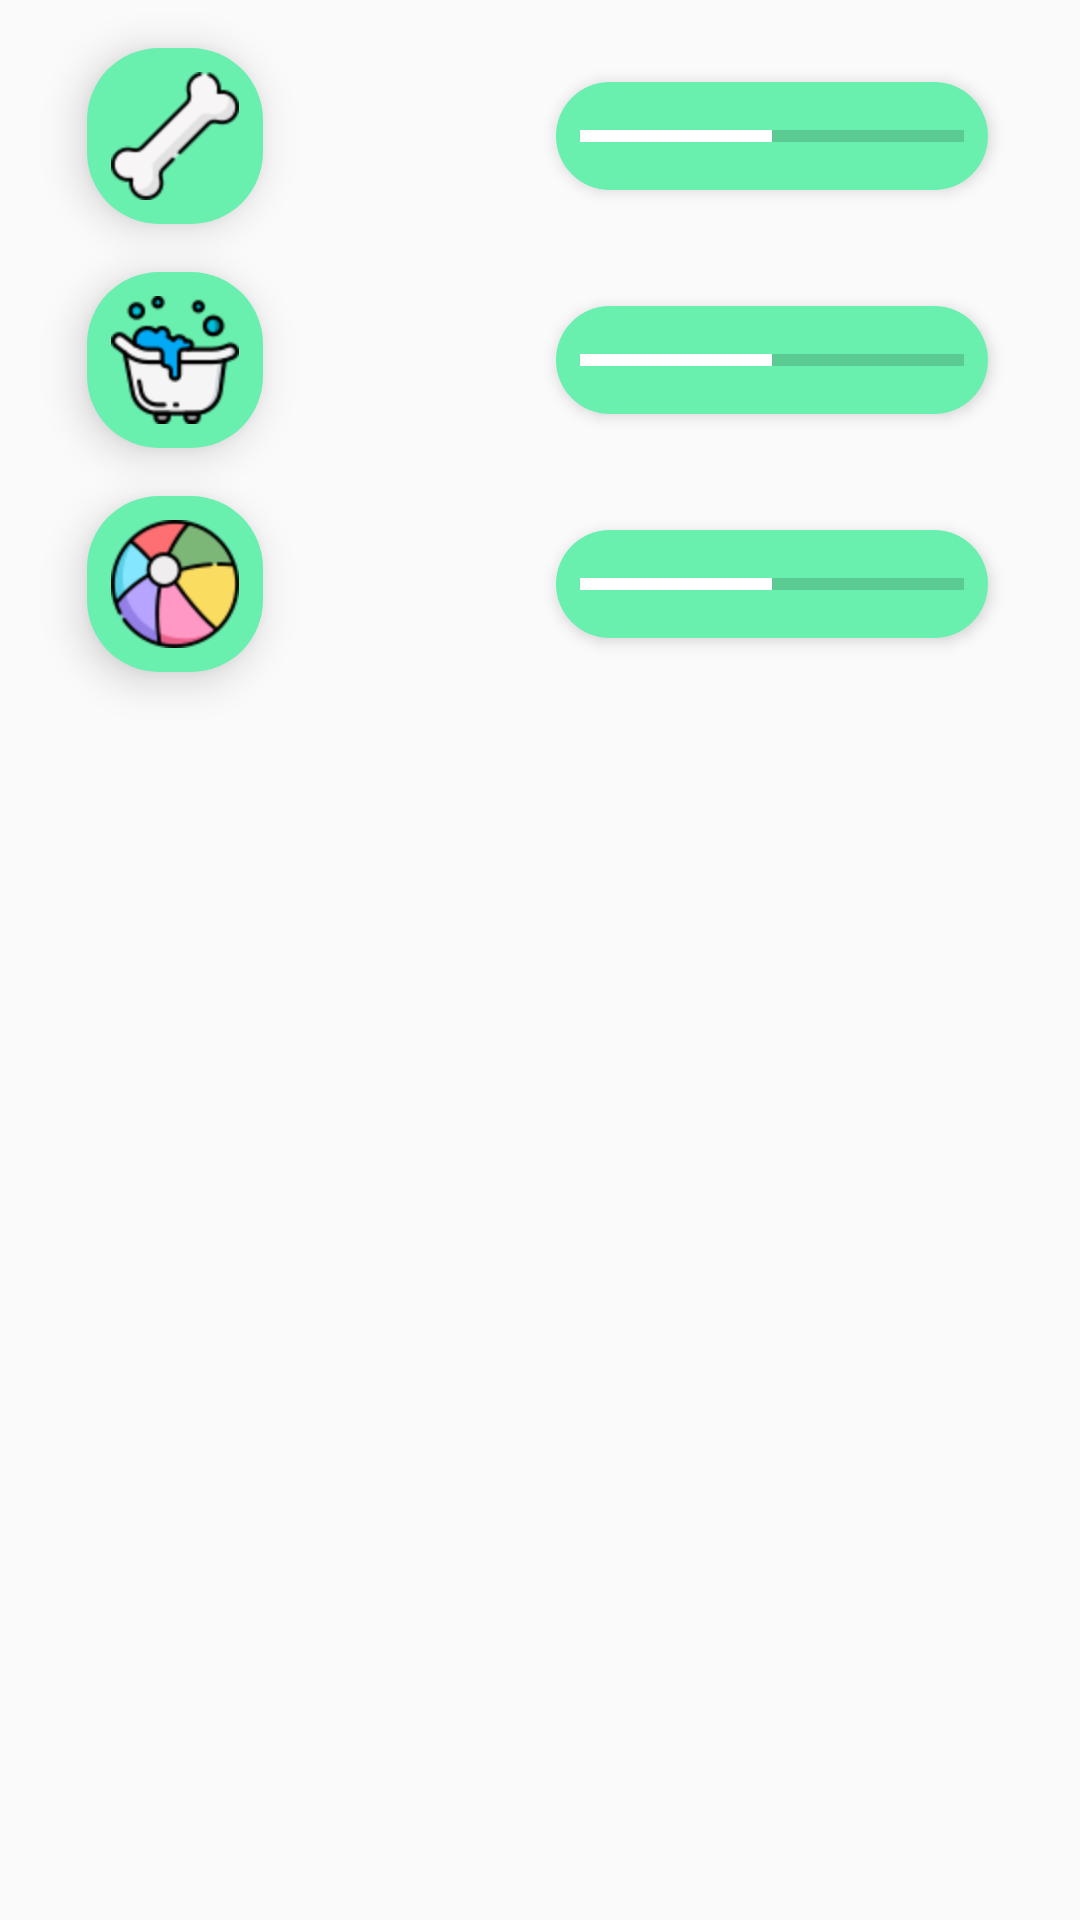

Point at icon controls on the screen. Image size 1080x1920, points as (x,y).
Feed button: (175,136)
Play button: (175,584)
Shower button: (175,360)
